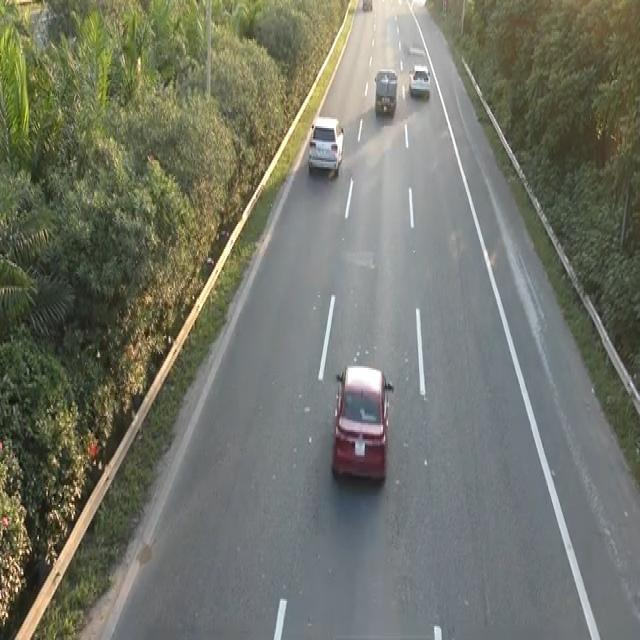bus: (328, 359, 395, 491)
car: (306, 112, 345, 180), (408, 60, 431, 98)
minivan: (373, 66, 398, 116)
